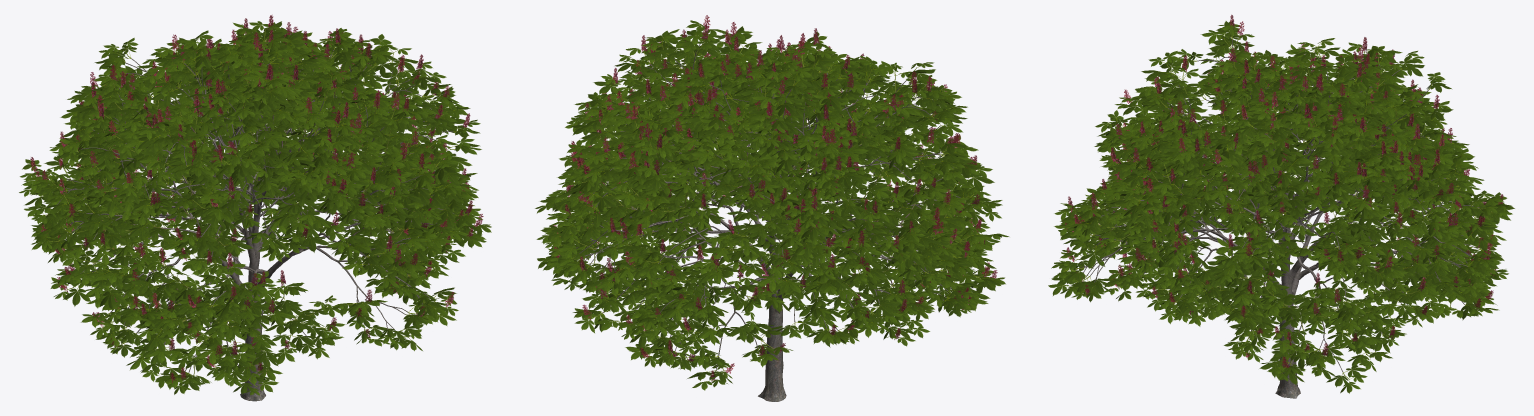
The model's file is dwarf_red_horse_chestnut.glb.
3 views of the same model, side by side, from view 1: azimuth 30°, elevation 25°; view 2: azimuth 150°, elevation 25°; view 3: azimuth 270°, elevation 25° (orthographic). The views are drawn at different scales.
Parts seen in each view (by area): view 1: Aesculus_pavia_HD; view 2: Aesculus_pavia_HD; view 3: Aesculus_pavia_HD.
Boxes of the visible parts, <box> form: Aesculus_pavia_HD: <box>19,15,491,401</box>; Aesculus_pavia_HD: <box>535,15,1009,401</box>; Aesculus_pavia_HD: <box>1048,14,1514,398</box>.
Size of the model in its own units: 3.31 by 2.67 by 3.41.
10 materials, 10 textured.
